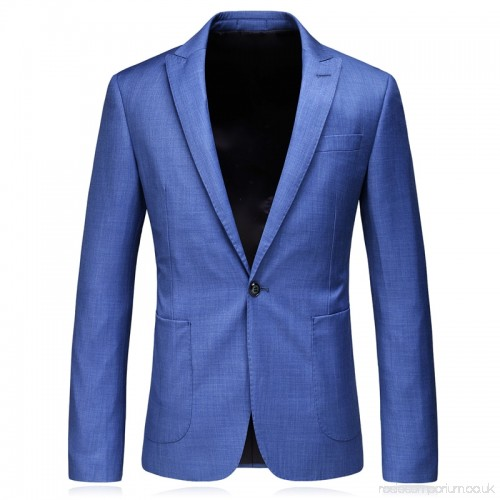F_W_suit jacket: (73, 23, 447, 460)
